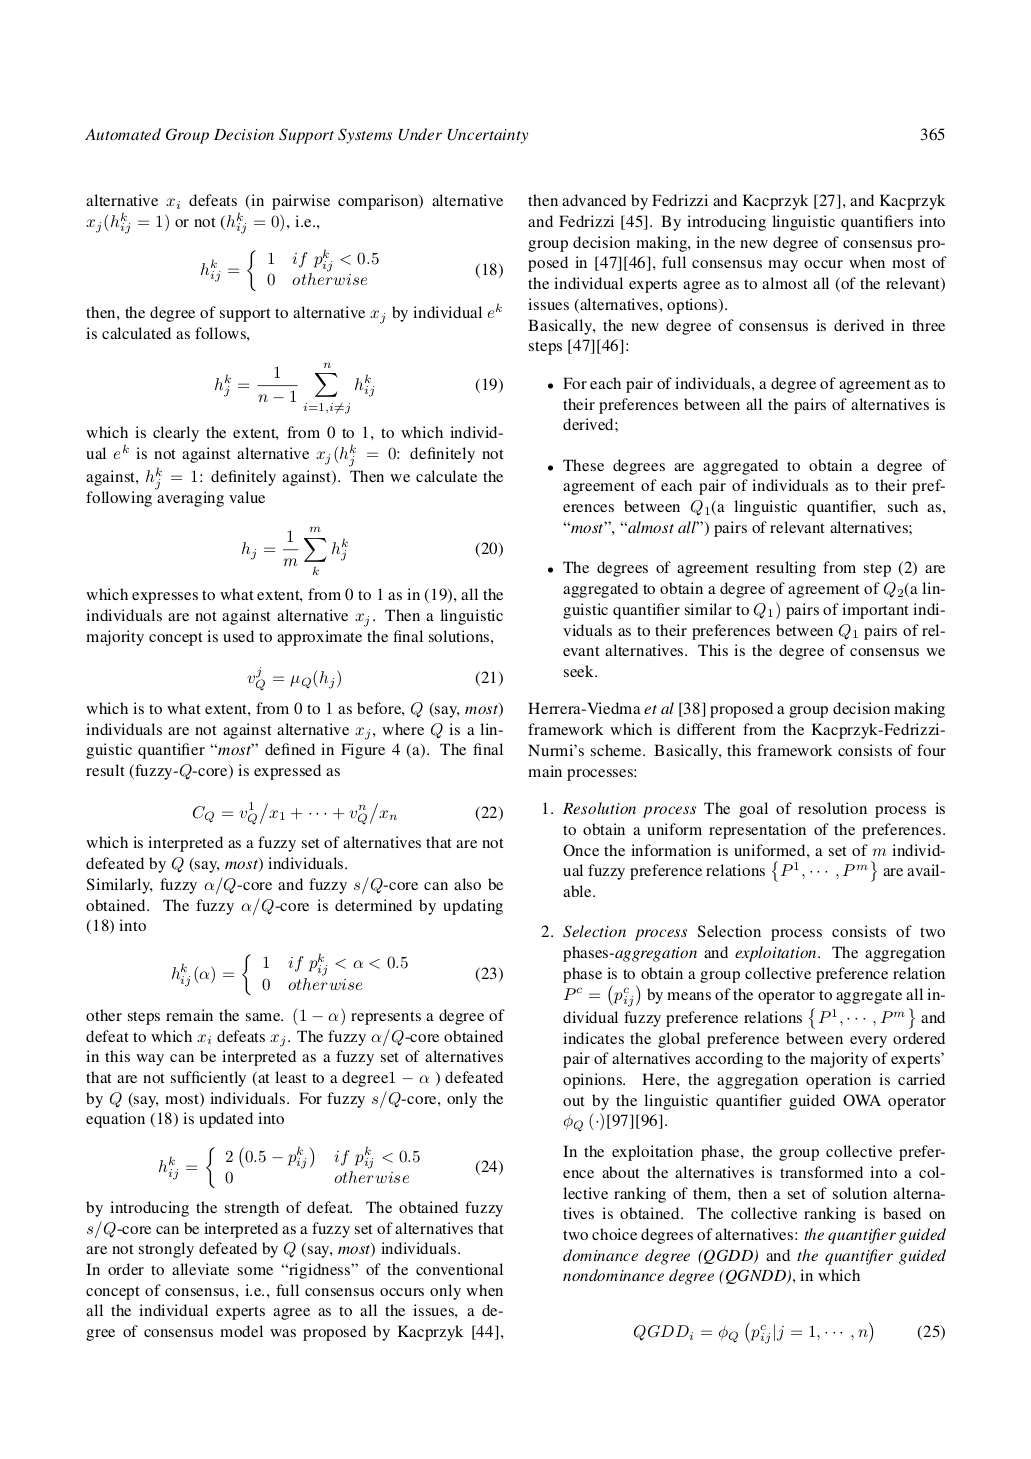formula: (215, 361, 502, 414), (158, 1144, 502, 1188), (172, 951, 502, 995), (201, 248, 502, 291), (242, 525, 502, 574), (192, 801, 502, 825), (633, 1321, 944, 1344), (247, 665, 502, 690)
